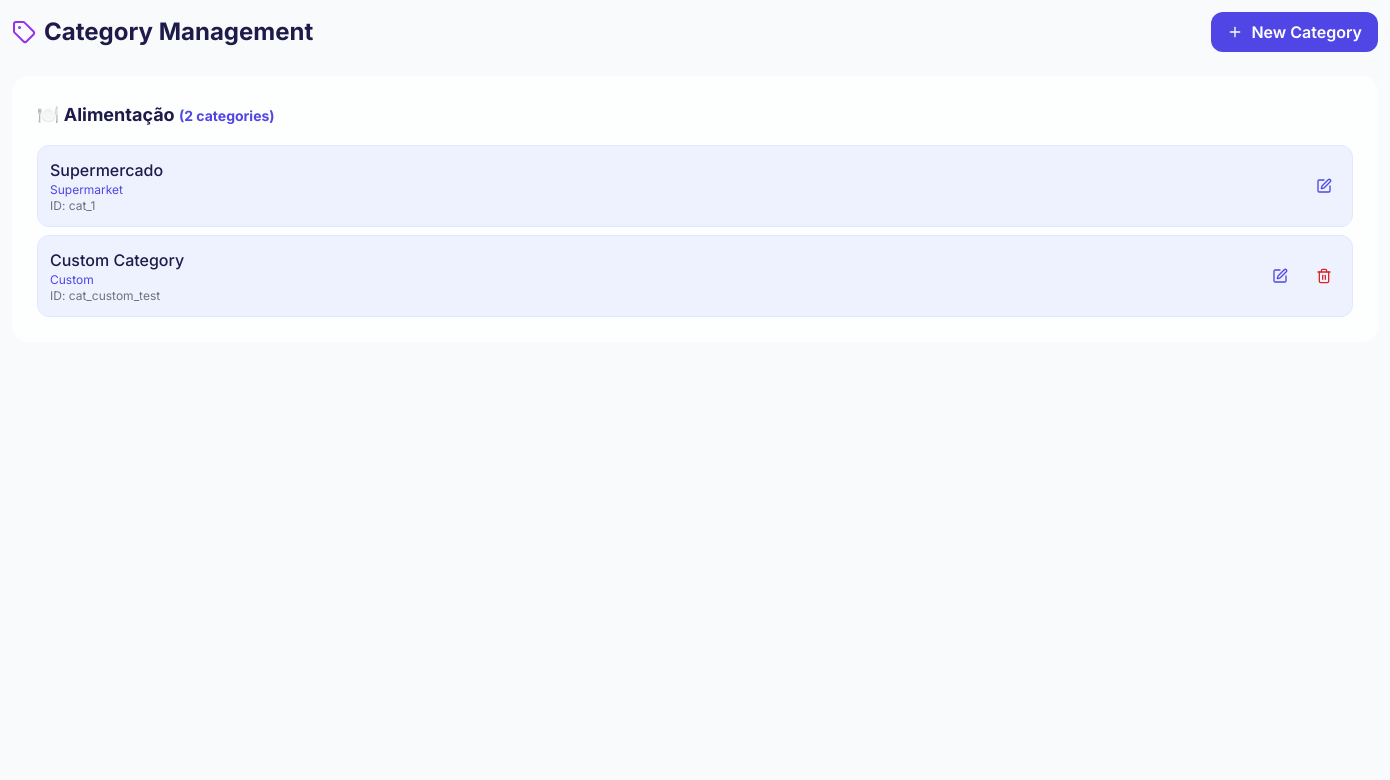
Test: Bug #3: Category Management Feature › should show create form when clicking New Category
Click the button "New Category" at (1295,32), box top-left (1212, 12), bottom-right (1378, 52)
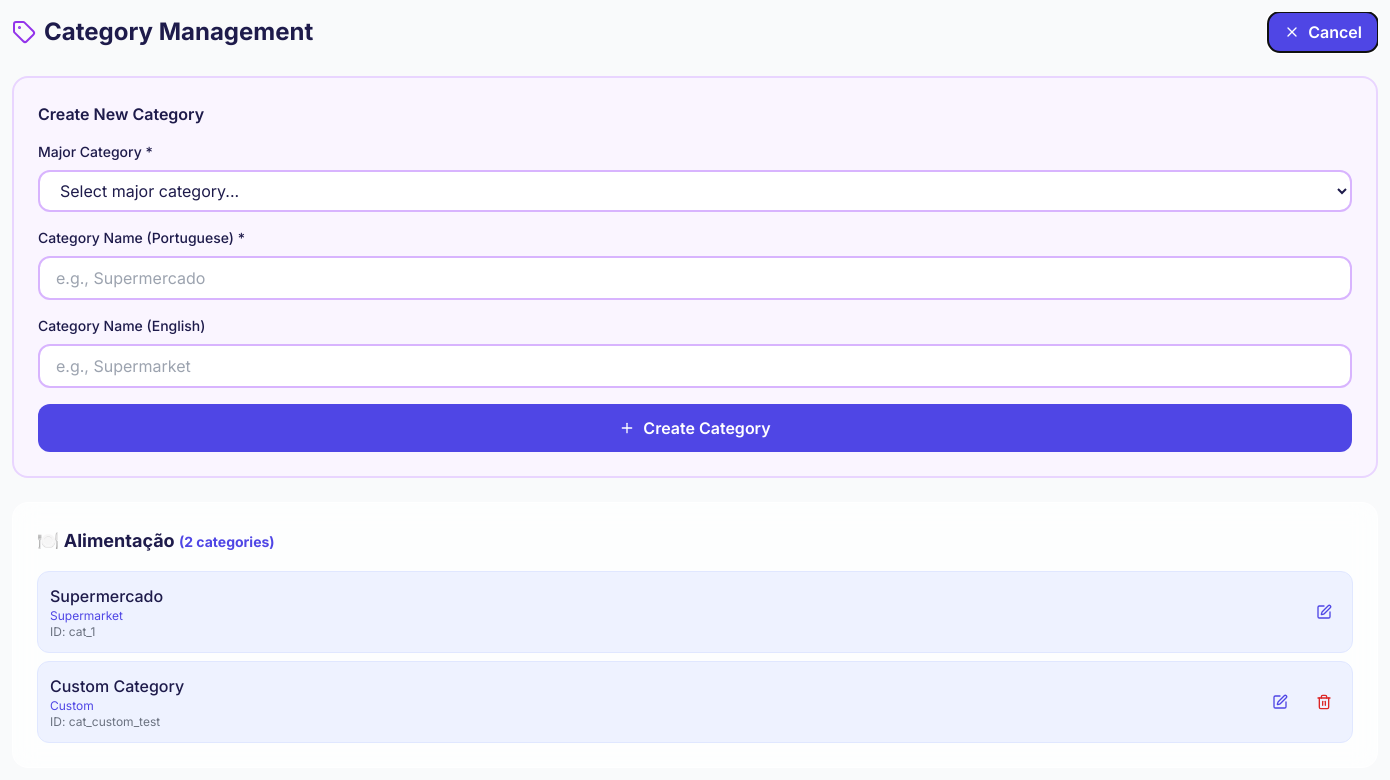
Result: the heading "Create New Category" is shown at top-left (38, 104), bottom-right (204, 124)
Result: the text "Major Category *" is shown at top-left (38, 143), bottom-right (153, 160)
Result: the field with placeholder "e.g., Supermercado" is shown at top-left (38, 256), bottom-right (1352, 300)
